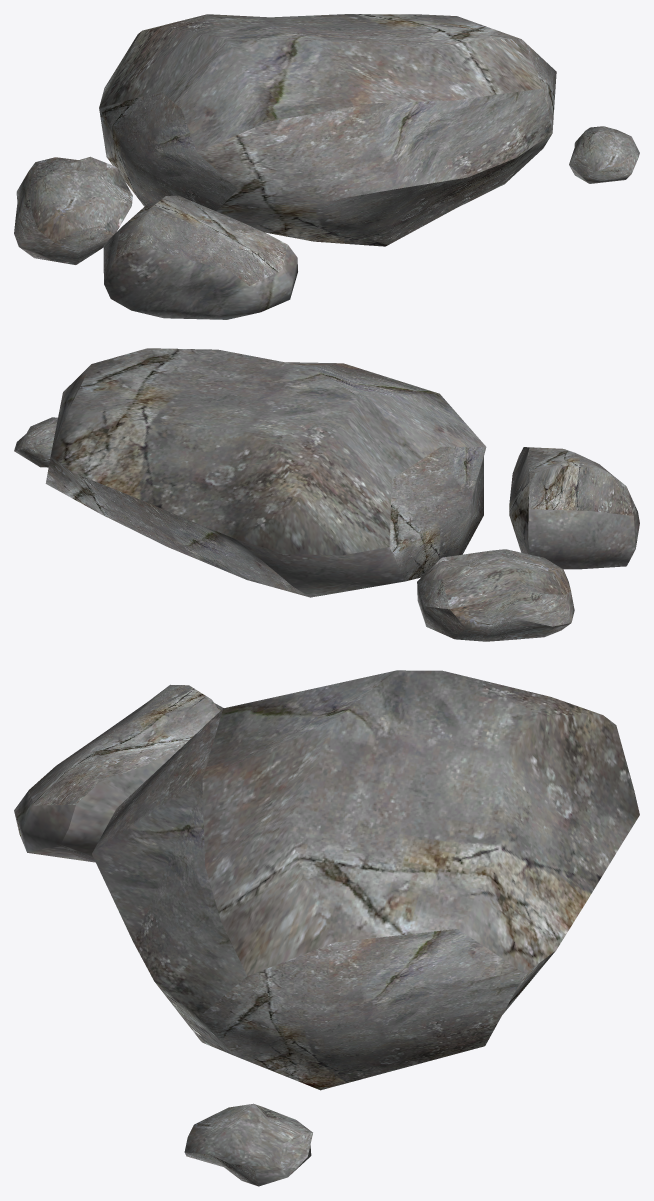
Rendered from rock_riverbed02b.glb.
The picture shows the model from 3 angles, top to bottom: view 1: azimuth 30°, elevation 25°; view 2: azimuth 150°, elevation 25°; view 3: azimuth 270°, elevation 25°; orthographic projection. The views are drawn at different scales.
Parts seen in each view (by area): view 1: rock_riverbed02b; view 2: rock_riverbed02b; view 3: rock_riverbed02b.
Part boxes in pixels (left/top/right/bottom): rock_riverbed02b: left=14, top=14, right=639, bottom=319; rock_riverbed02b: left=14, top=348, right=639, bottom=641; rock_riverbed02b: left=14, top=670, right=639, bottom=1186.
Size of the model in its own units: 2.14 by 0.6382 by 1.38.
Materials: 1 (1 with a texture image).
